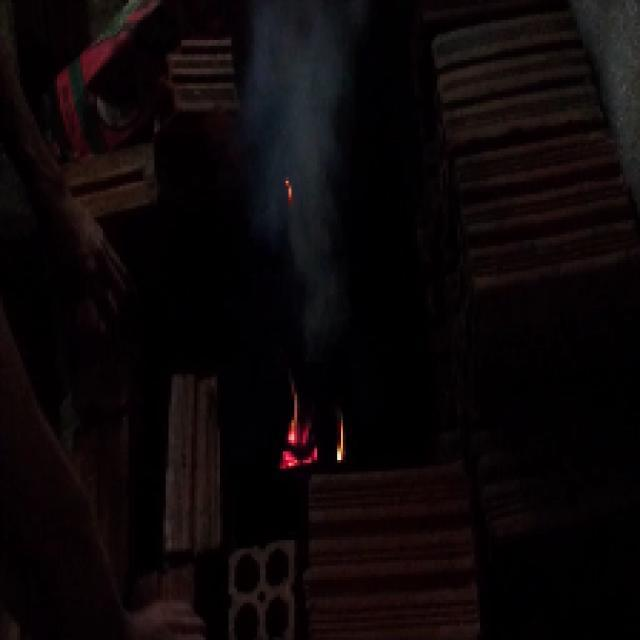Fire: (282, 386, 348, 472)
Smoke: (252, 15, 350, 334)
